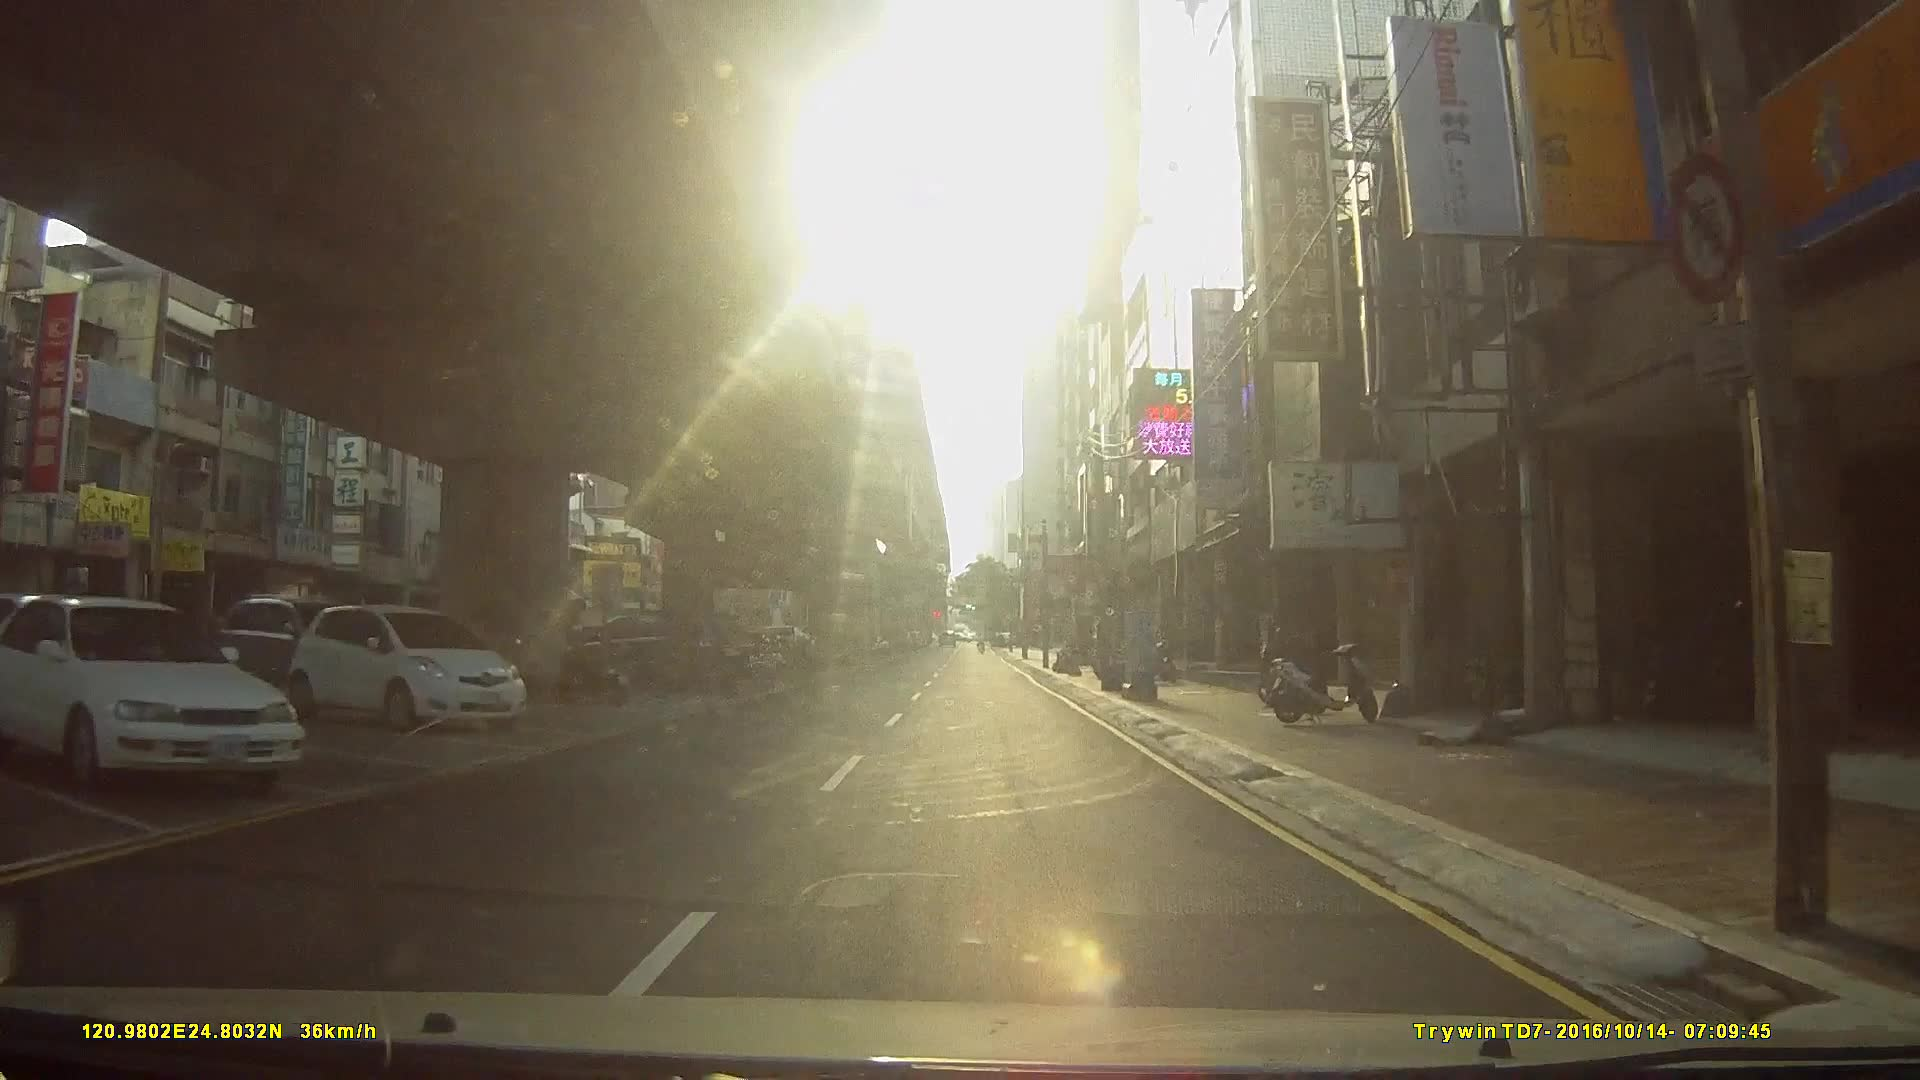vehicle: (0, 593, 305, 798), (287, 599, 529, 735), (214, 596, 357, 695)
